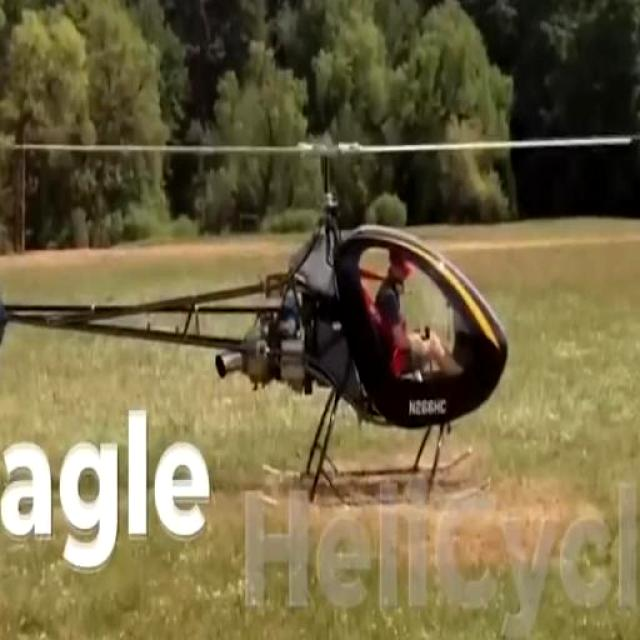drone: (0, 101, 640, 410)
